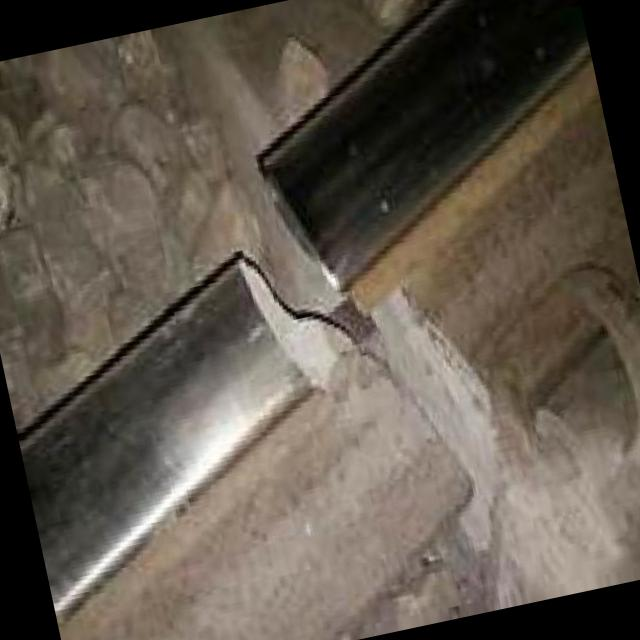defective: (138, 0, 605, 640)
